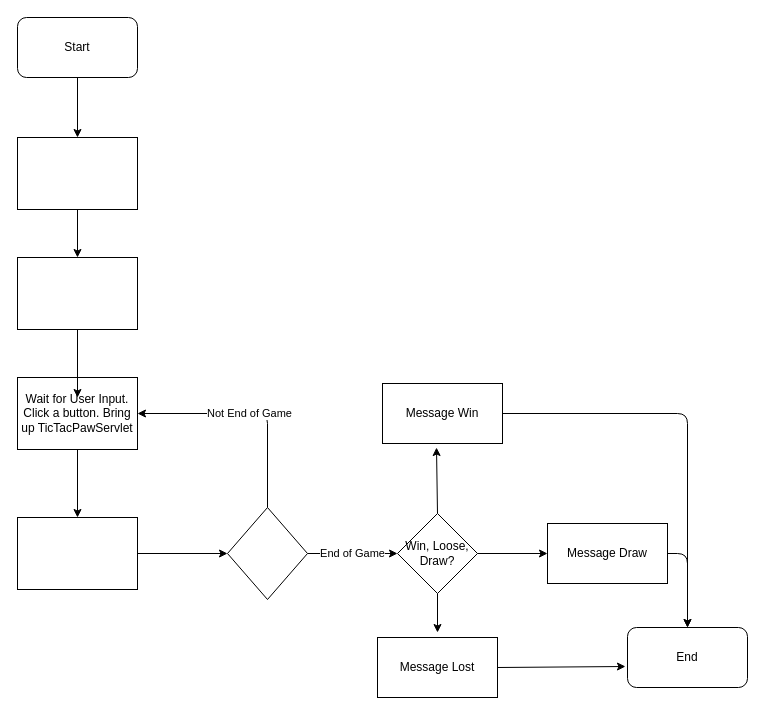
Image size: 765x715. Some labels were removed from this diagram. The shapes that lost their labels are listed below. From the top down, each one's centre as x and y in pixels, then its label:
the point at 77,173: TicTacPawServlet Request
the point at 77,293: TicTacPawServlet Forwards to TicTacPawBoard
the point at 77,553: Evaluate Button and Java Bean. Call TicTacPawAI
the point at 267,553: Check End of Game
